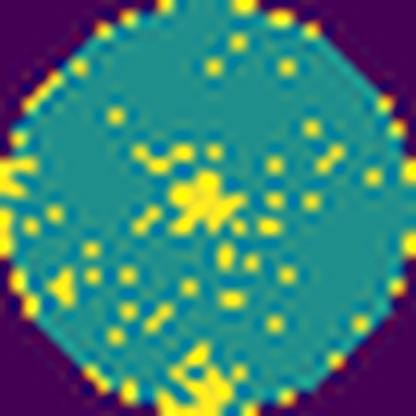Center: (161, 166, 255, 236)
